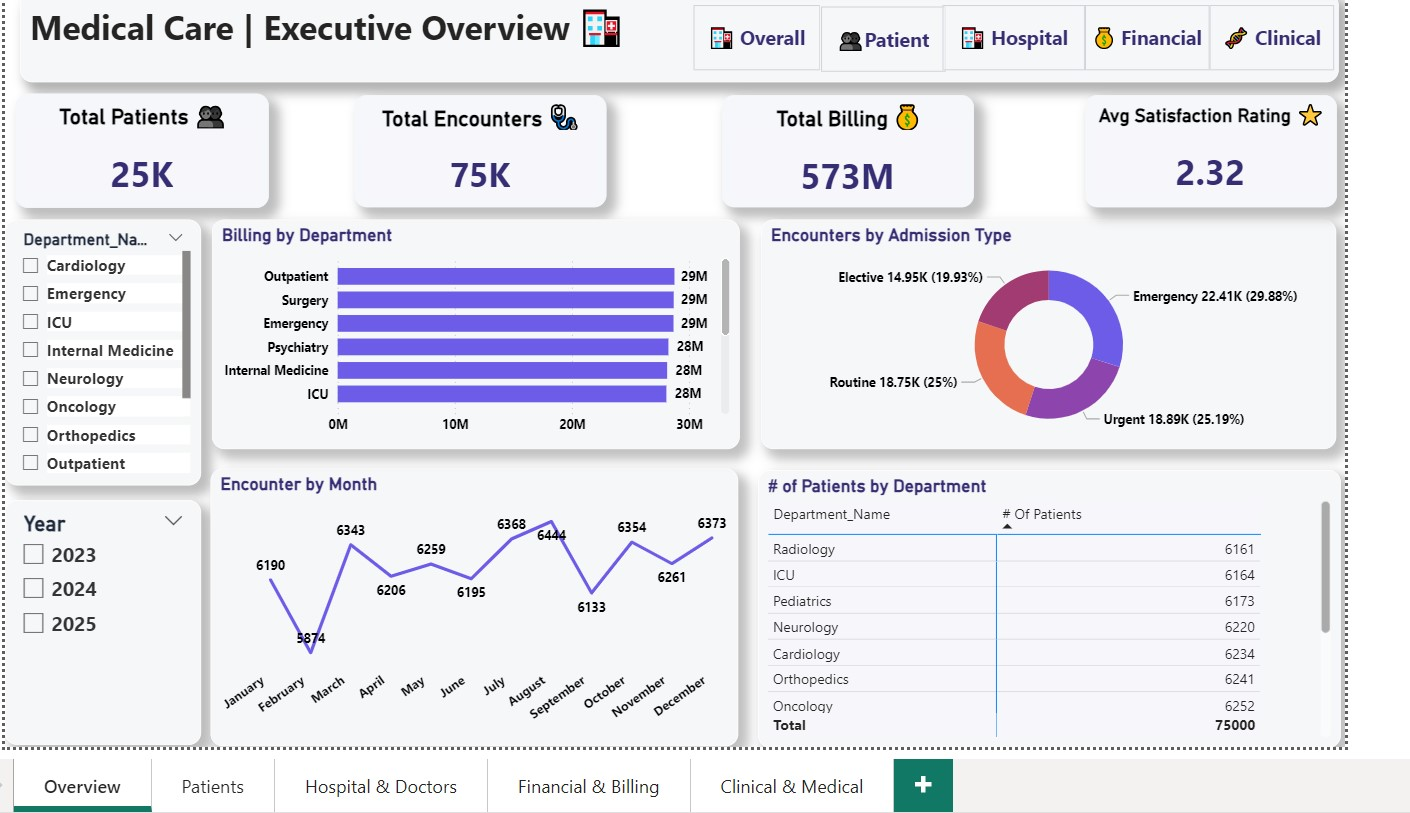

Layout of this report page (visuals, bound fields, positions):
{"tool":"powerbi","page":{"name":"Overview","canvas":[1280,720],"ordinal":0},"visuals":[{"type":"textbox","box":[14.3,0,1259,85],"z":0},{"type":"cardVisual","title":"Total Patients 👥","fields":{"Data":["Count(Dim_Patient.Patient_ID)"]},"box":[10.6,95.4,242.3,109],"z":1000},{"type":"cardVisual","title":"Total Billing 💰","fields":{"Data":["Sum(Fact_Billing.Total_Cost)"]},"box":[684.4,96.9,240.8,107.5],"z":2000},{"type":"cardVisual","title":"Total Encounters 🩺","fields":{"Data":["Count(Fact_Billing.Encounter_ID)"]},"box":[333.1,96.9,240.8,107.5],"z":3000},{"type":"slicer","fields":{"Values":["Dim_Department.Department_Name"]},"box":[0,216.3,187.1,253.7],"z":4000},{"type":"slicer","fields":{"Values":["Dim_Date.Date.Variation.Date Hierarchy.Year"]},"box":[0,484.7,187.1,234.2],"z":5000},{"type":"actionButton","title":"🏠 Executive","box":[657.6,11.3,120.9,62.4],"z":6000},{"type":"actionButton","title":"🏠 Executive","box":[778.6,13.2,119.1,62.4],"z":7000},{"type":"actionButton","title":"🏠 Executive","box":[895.8,11.3,136.1,62.4],"z":8000},{"type":"actionButton","title":"🏠 Executive","box":[1031.8,11.3,119.1,62.4],"z":9000},{"type":"donutChart","title":"Encounters by Admission Type","fields":{"Category":["Fact_Encounter.Admission_Type"],"Y":["Count(Fact_Billing.Encounter_ID)"]},"box":[722.3,216.5,549.7,219.6],"z":10000},{"type":"lineChart","title":"Encounter by Month","fields":{"Y":["CountNonNull(Fact_Billing.Encounter_ID)"],"Category":["Dim_Date.Date.Variation.Date Hierarchy.Month"]},"box":[196.8,453.8,504.2,265.1],"z":11000},{"type":"pivotTable","title":"# of Patients by Department","fields":{"Rows":["Dim_Department.Department_Name"],"Values":["CountNonNull(Fact_Encounter.Patient_ID)"]},"box":[719,454.9,556.7,265.6],"z":12000},{"type":"cardVisual","title":"Avg Satisfaction Rating ⭐","fields":{"Data":["Avg(Fact_Satisfaction.Overall_Rating)"]},"box":[1031.2,97.6,240.7,107.4],"z":13000},{"type":"clusteredBarChart","title":"Billing by Department","fields":{"Category":["Dim_Department.Department_Name"],"Y":["Table.Total Billing"]},"box":[197.2,216.3,504.2,219.5],"z":14000},{"type":"actionButton","title":"🏠 Executive","box":[1150.9,11.3,119.1,62.4],"z":15000}]}

Visuals, with their boxes on the page's 1280x720 design canvas (x1, y1, x2, y2). These are canvas units, not pixel positions in the 1410x813 screenshot, which may show the page scaled, cropped or inside an application window:
textbox: l=14, t=0, r=1273, b=85
"Total Patients 👥" cardVisual: l=11, t=95, r=253, b=204
"Total Billing 💰" cardVisual: l=684, t=97, r=925, b=204
"Total Encounters 🩺" cardVisual: l=333, t=97, r=574, b=204
slicer - Dim_Department.Department_Name: l=0, t=216, r=187, b=470
slicer - Dim_Date.Date.Variation.Date Hierarchy.Year: l=0, t=485, r=187, b=719
"🏠 Executive" actionButton: l=658, t=11, r=778, b=74
"🏠 Executive" actionButton: l=779, t=13, r=898, b=76
"🏠 Executive" actionButton: l=896, t=11, r=1032, b=74
"🏠 Executive" actionButton: l=1032, t=11, r=1151, b=74
"Encounters by Admission Type" donutChart: l=722, t=216, r=1272, b=436
"Encounter by Month" lineChart: l=197, t=454, r=701, b=719
"# of Patients by Department" pivotTable: l=719, t=455, r=1276, b=720
"Avg Satisfaction Rating ⭐" cardVisual: l=1031, t=98, r=1272, b=205
"Billing by Department" clusteredBarChart: l=197, t=216, r=701, b=436
"🏠 Executive" actionButton: l=1151, t=11, r=1270, b=74
